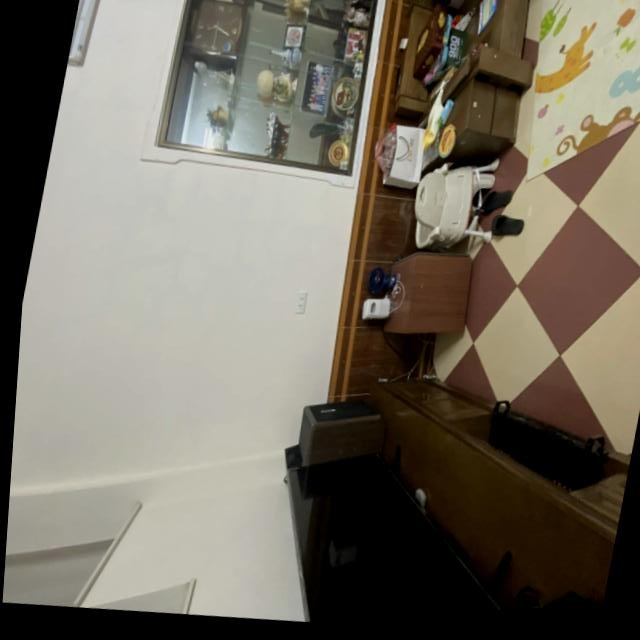outlet: (293, 290, 309, 315)
